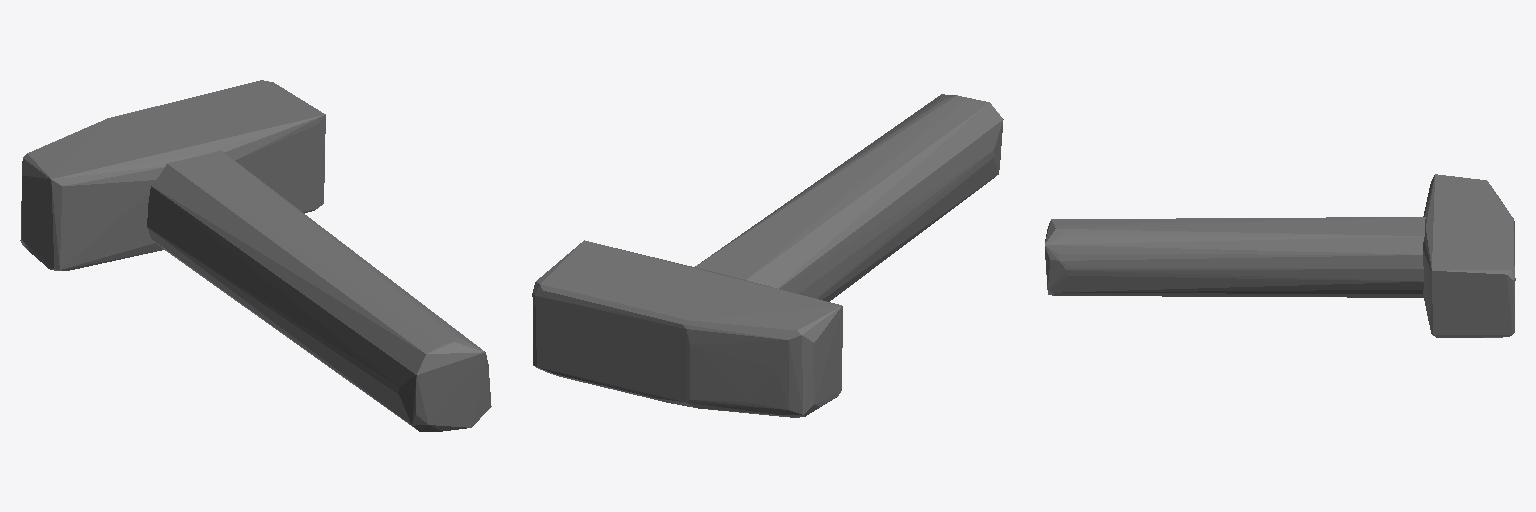
URDF robot description (hammer_024):
<?xml version="1.0" ?>
<robot name="hammer_024">
  <material name="color">
    <color rgba=".5 .5 .5 1"/>
  </material>

  <link name="base_link">
    <contact>
      <lateral_friction value="1.0"/>
      <rolling_friction value="0.001"/>
      <spinning_friction value="0.001"/>
      <inertia_scaling value="1.0"/>
    </contact>
    <inertial>
      <origin rpy="0 0 0" xyz="0.00165883 0.0364815 1.63002e-05"/>
       <mass value="0.1"/>
       <inertia ixx="1" ixy="0" ixz="0" iyy="1" iyz="0" izz="1"/>
    </inertial>

    <visual>
      <origin rpy="0 0 0" xyz="0 0 0"/>
      <geometry>
        <mesh filename="hammer_024_vhacd_0_of_2.obj" scale="1 1 1"/>
      </geometry>
      <material name="color"/>
    </visual>
    <visual>
      <origin rpy="0 0 0" xyz="0 0 0"/>
      <geometry>
        <mesh filename="hammer_024_vhacd_1_of_2.obj" scale="1 1 1"/>
      </geometry>
      <material name="color"/>
    </visual>

    <collision>
      <origin rpy="0 0 0" xyz="0 0 0"/>
      <geometry>
        <mesh filename="hammer_024_vhacd_0_of_2.obj" scale="1 1 1"/>
      </geometry>
    </collision>
    <collision>
      <origin rpy="0 0 0" xyz="0 0 0"/>
      <geometry>
        <mesh filename="hammer_024_vhacd_1_of_2.obj" scale="1 1 1"/>
      </geometry>
    </collision>

  </link>
</robot>

--- What the picture shows (computed from the rendered views, not written in the file) ---
Views: 3 orthographic renders of the robot side by side, from view 1: azimuth 30°, elevation 25°; view 2: azimuth 150°, elevation 25°; view 3: azimuth 270°, elevation 25°.
Model hammer_024 with 1 links and 0 joints (none), rooted at base_link, posed every joint at zero.
Visible links, largest first — view 1: base_link; view 2: base_link; view 3: base_link.
Link boxes in pixels (x1,y1,x2,y2): base_link: [20, 80, 491, 431]; base_link: [532, 94, 1003, 417]; base_link: [1045, 174, 1515, 337].
Bounding box of the posed robot: 0.1364 × 0.2812 × 0.046 m (x, y, z).
Meshes: 2 distinct files referenced, 2 mesh visuals loaded (2 OBJ).